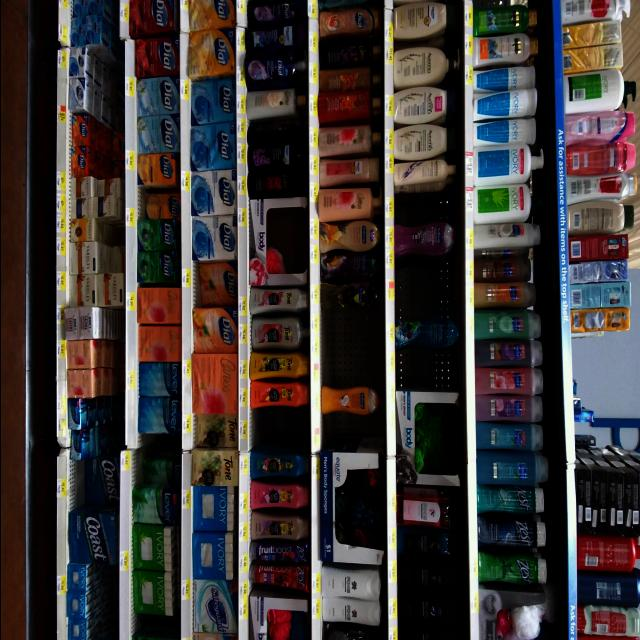empty_space: (573, 343, 623, 440), (319, 312, 373, 382), (397, 262, 455, 318), (396, 350, 452, 386), (253, 409, 302, 447), (394, 196, 446, 228), (320, 414, 370, 438), (266, 212, 299, 248), (68, 462, 86, 505)
